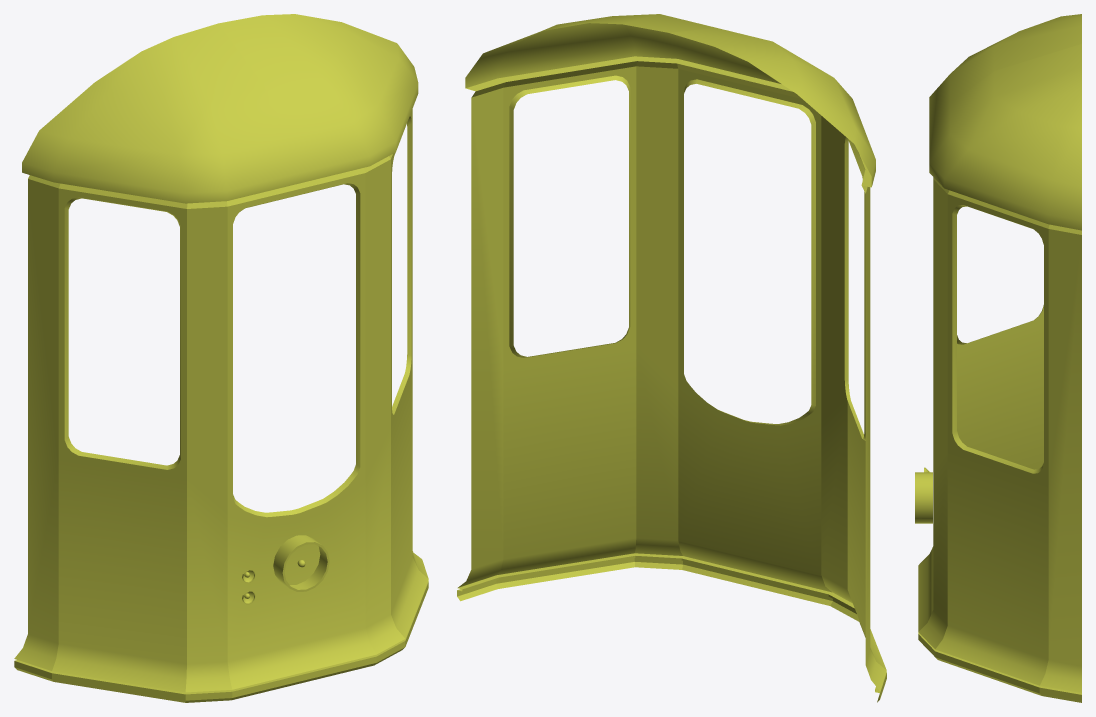
The model's file is vagon end lod2.FBX.
3 views of the same model, side by side, from view 1: azimuth 30°, elevation 25°; view 2: azimuth 150°, elevation 25°; view 3: azimuth 270°, elevation 25° (orthographic). The views are drawn at different scales.
Visible parts, largest first — view 1: Box237; view 2: Box237; view 3: Box237.
Boxes of the visible parts, <box> form: Box237: <box>14,14,428,702</box>; Box237: <box>457,14,886,702</box>; Box237: <box>915,14,1081,702</box>.
Bounding box in the file's own units: 2.25 × 3.15 × 0.8408.
